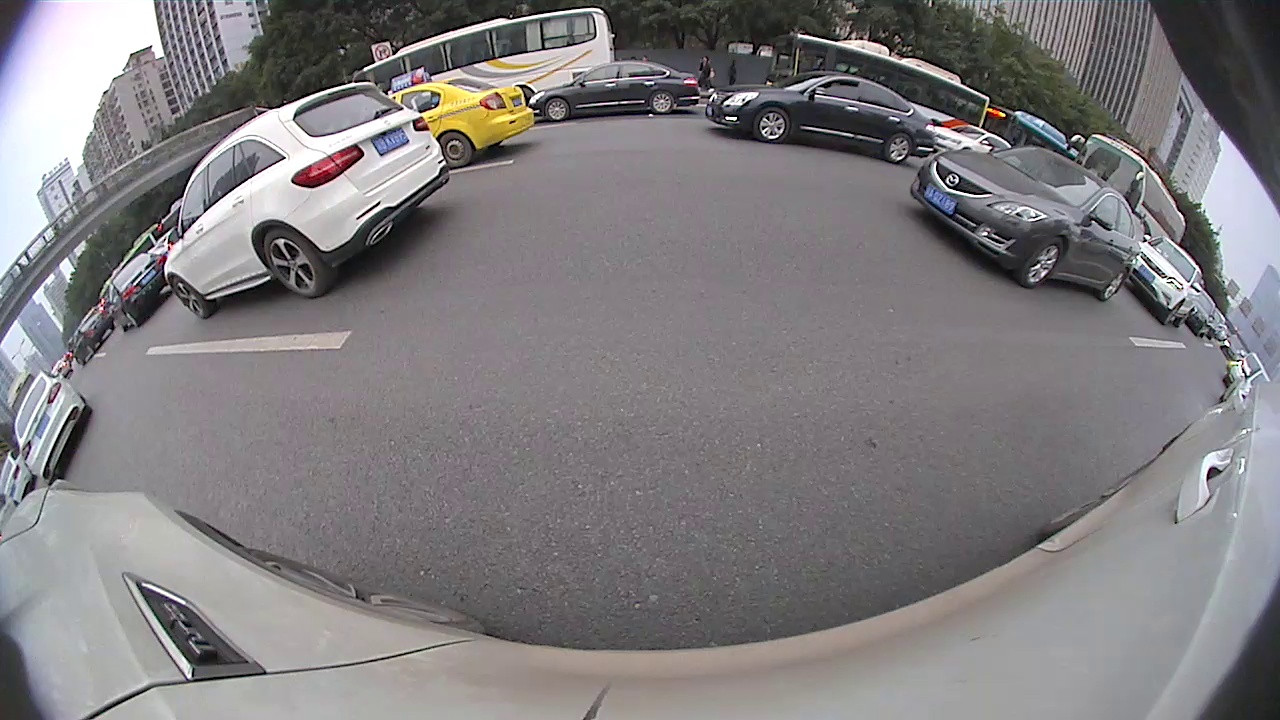bus: (350, 7, 617, 104), (765, 31, 990, 138), (1063, 131, 1188, 254)
car: (164, 79, 451, 317), (913, 146, 1140, 300), (707, 69, 939, 165), (385, 82, 537, 169), (528, 59, 704, 123), (13, 369, 90, 482), (1129, 234, 1204, 330), (107, 252, 169, 331), (69, 309, 118, 366), (0, 449, 34, 506)
front: (1021, 240, 1063, 289), (168, 278, 209, 320), (755, 107, 789, 144), (546, 100, 569, 121)
rear: (264, 230, 326, 298), (440, 133, 472, 167), (886, 133, 912, 164), (1101, 270, 1127, 301), (650, 90, 674, 112)
